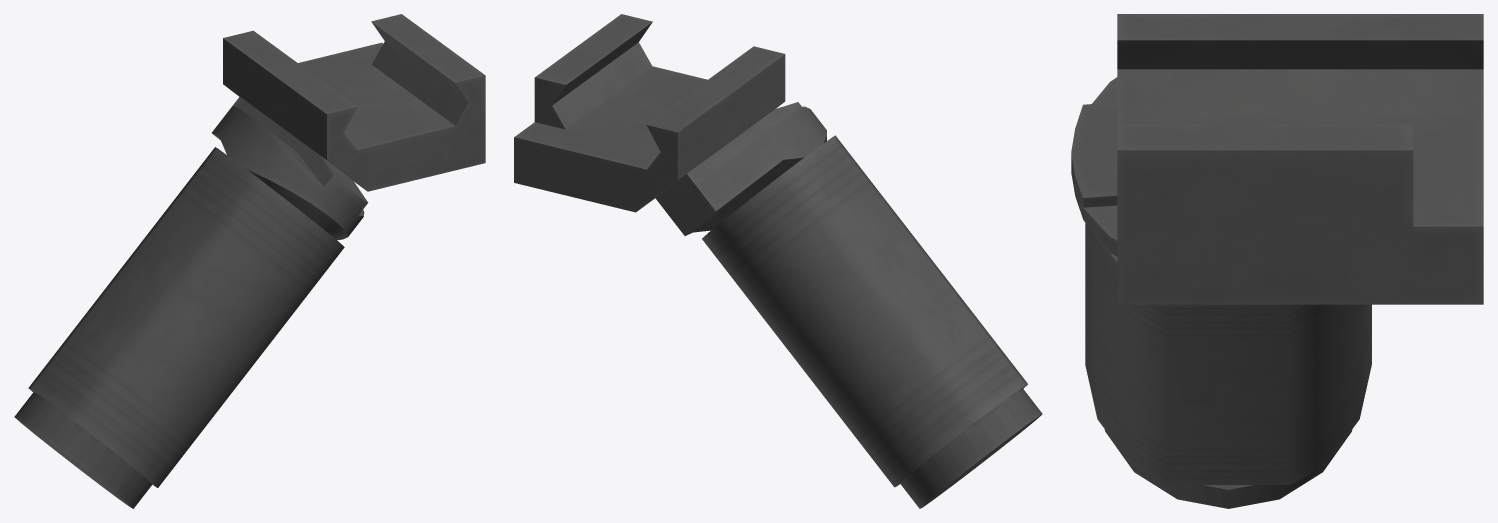
File: IG_Acc_Grip_ALL_SCA_1.fbx
The picture shows the model from 3 angles, left to right: view 1: azimuth 30°, elevation 25°; view 2: azimuth 150°, elevation 25°; view 3: azimuth 270°, elevation 25°; orthographic projection. The views are drawn at different scales.
Visible parts, largest first — view 1: Acc_Grip_ALL_SCA_1; view 2: Acc_Grip_ALL_SCA_1; view 3: Acc_Grip_ALL_SCA_1.
Part boxes in pixels (x1=…): Acc_Grip_ALL_SCA_1: x1=14, y1=14, x2=485, y2=508; Acc_Grip_ALL_SCA_1: x1=514, y1=14, x2=1042, y2=508; Acc_Grip_ALL_SCA_1: x1=1071, y1=14, x2=1483, y2=508.
Size of the model in its own units: 0.1978 by 0.1623 by 0.094.
1 material, 1 textured.
